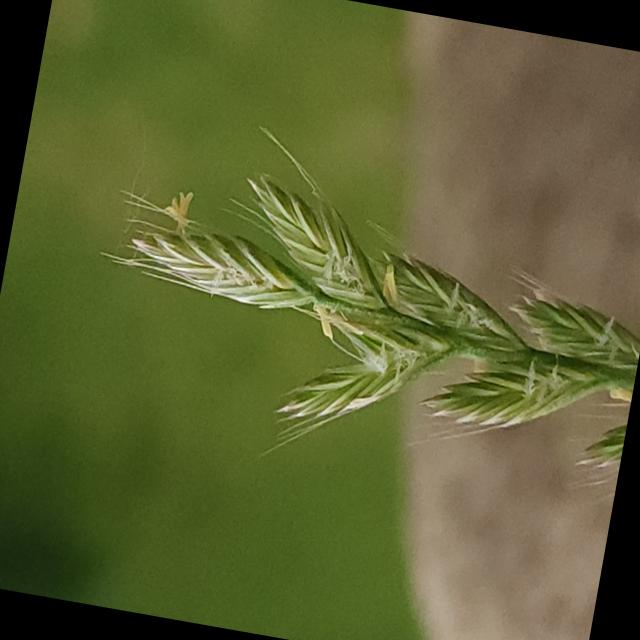Lolium: (67, 97, 640, 518)
